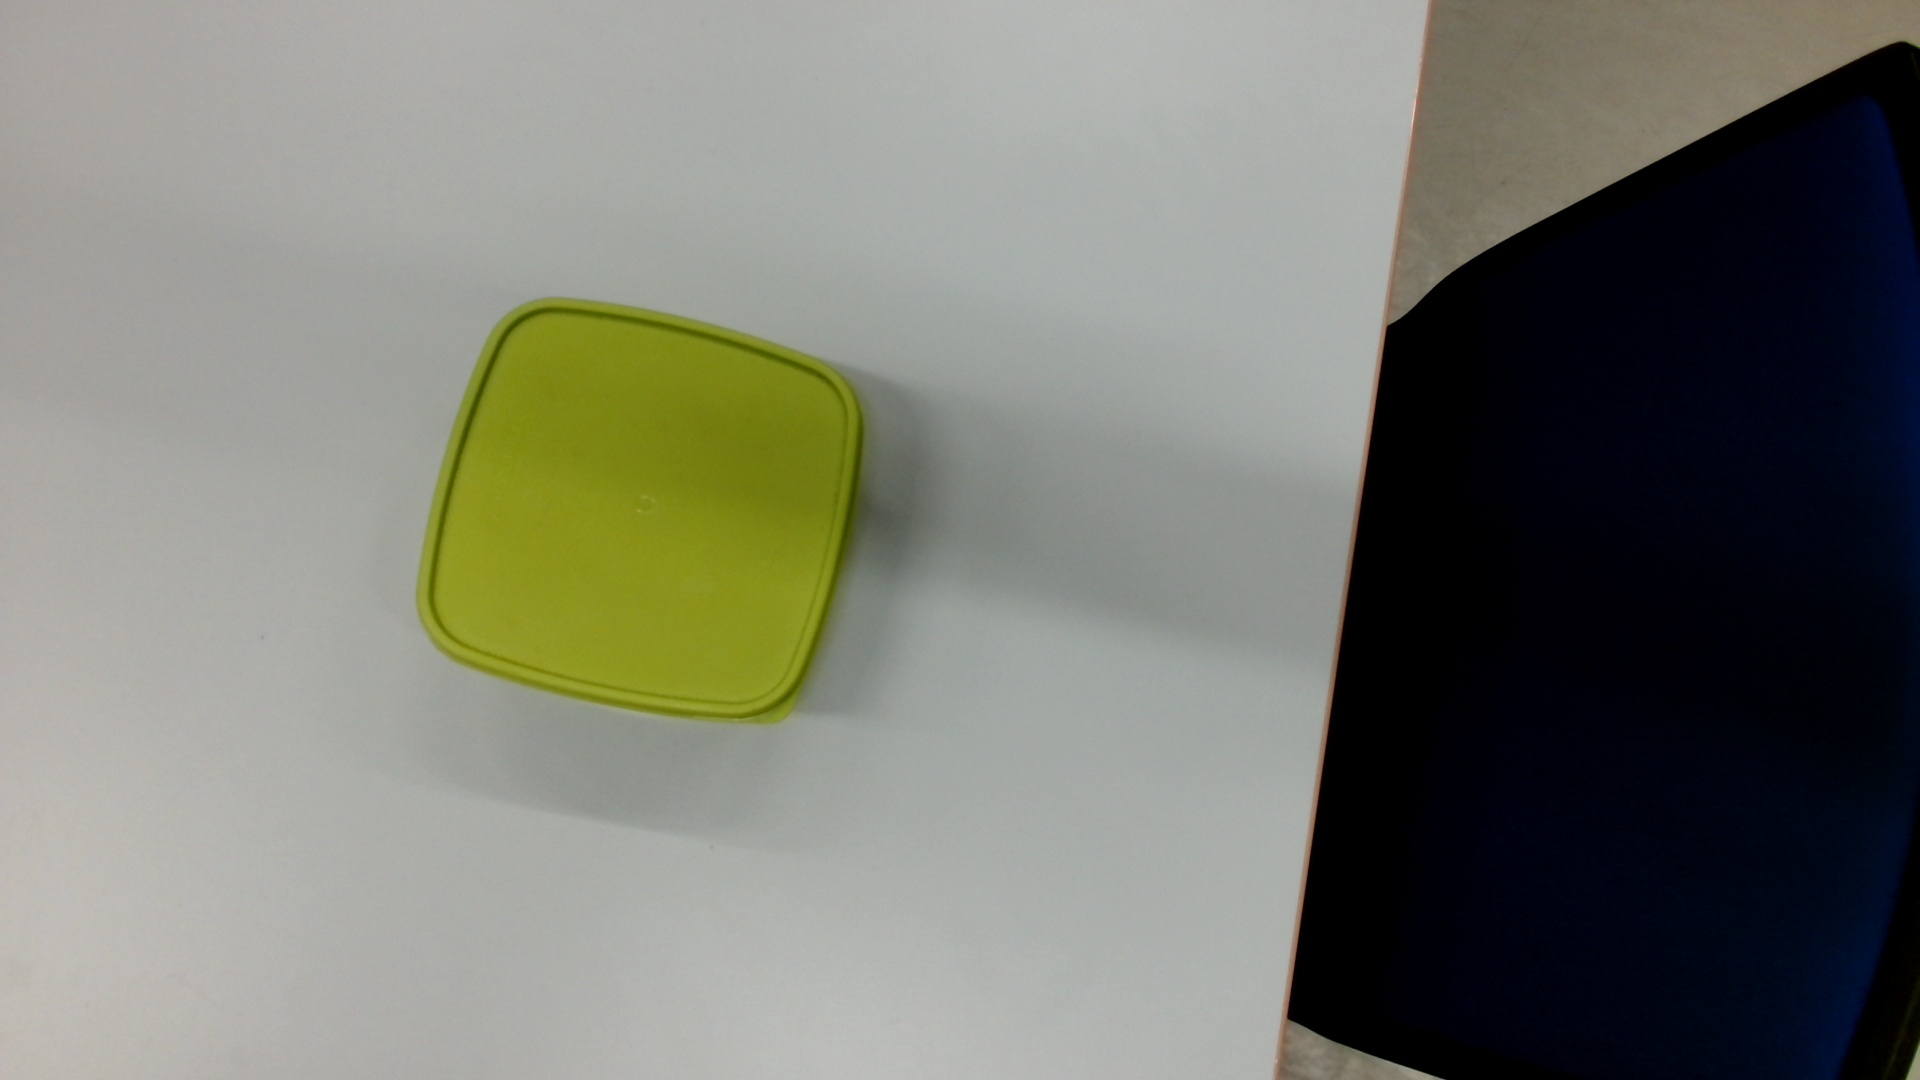Box: (402, 291, 876, 744)
